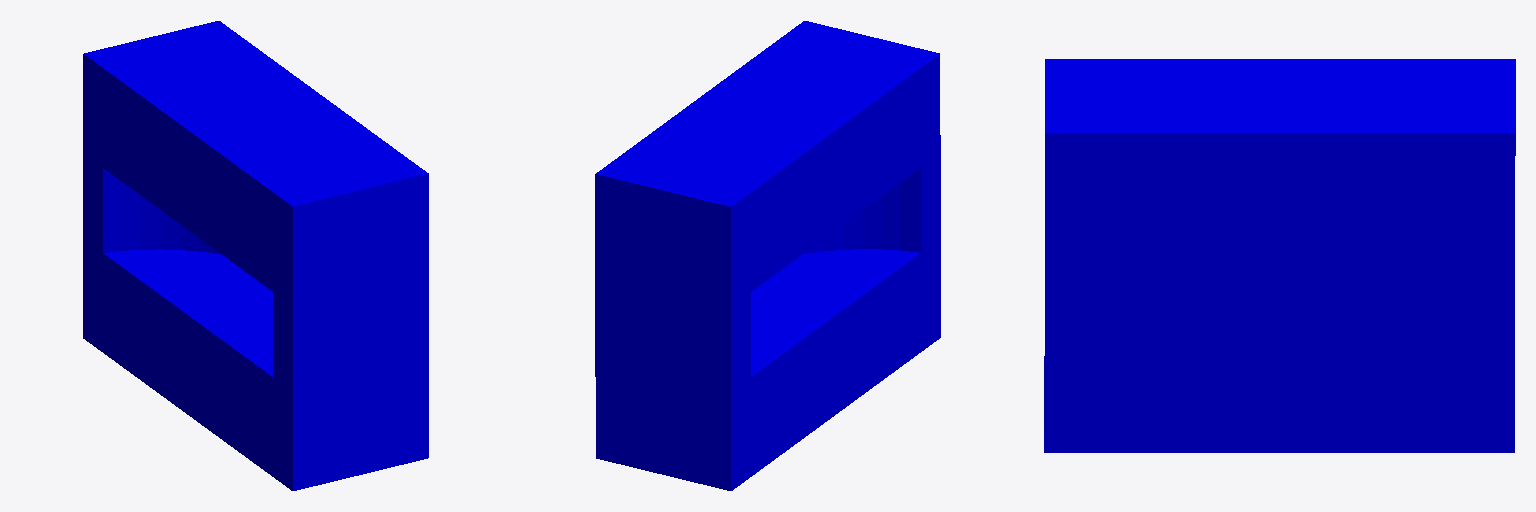
URDF robot description (robot):
<?xml version="1.0"?>
<robot>

    <!-- joint -->
    <!-- <joint name="holder_joint" type="fixed">
        <axis xyz="1 0 0" />
        <origin xyz="0 0 0" rpy="0 0 0"/>
        <parent link="world"/>
        <child link="single_disc_holder_link"/>
    </joint> -->

    <!-- holder -->
    <link name="single_disc_holder_link">
        <visual>
            <origin xyz="0 0 0" rpy="1.57 0 0" />
            <geometry>
                <mesh filename="package://ece383-final-project/meshes/visual/single_disc_holder.stl" scale="0.001 0.001 0.001"/>
            </geometry>
            <material name="">
                <color rgba="0 0 1 1" />
            </material>
        </visual>

        <collision>
            <origin xyz="0 0 0" rpy="1.57 0 0" />
            <geometry>
                <mesh filename="package://ece383-final-project/meshes/visual/single_disc_holder.stl" scale="0.001 0.001 0.001"/>
            </geometry>
        </collision>

        <inertial>
            <mass value="10" />
            <origin xyz="0 0 0" rpy="0 0 0"/>
            <inertia ixx="1" ixy="0" ixz="0" iyy="1" iyz="0" izz="1" />
        </inertial>
    </link>

    <gazebo reference="single_disc_holder_link">
        <material>Gazebo/Blue</material>
    </gazebo>
</robot>

--- What the picture shows (computed from the rendered views, not written in the file) ---
The picture shows the robot from 3 angles, left to right: view 1: azimuth 30°, elevation 25°; view 2: azimuth 150°, elevation 25°; view 3: azimuth 270°, elevation 25°; orthographic projection.
Robot: robot — 1 links, 0 joints (none); root link single_disc_holder_link; default pose: all joints at 0.
Visible links, largest first — view 1: single_disc_holder_link; view 2: single_disc_holder_link; view 3: single_disc_holder_link.
Link boxes in pixels (bbox=[...]): single_disc_holder_link: bbox=[83, 21, 428, 490]; single_disc_holder_link: bbox=[595, 21, 940, 490]; single_disc_holder_link: bbox=[1044, 59, 1515, 452].
Bounding box of the posed robot: 0.015 × 0.04 × 0.03 m (x, y, z).
Meshes: 1 distinct files referenced, 1 mesh visuals loaded (1 binary STL).